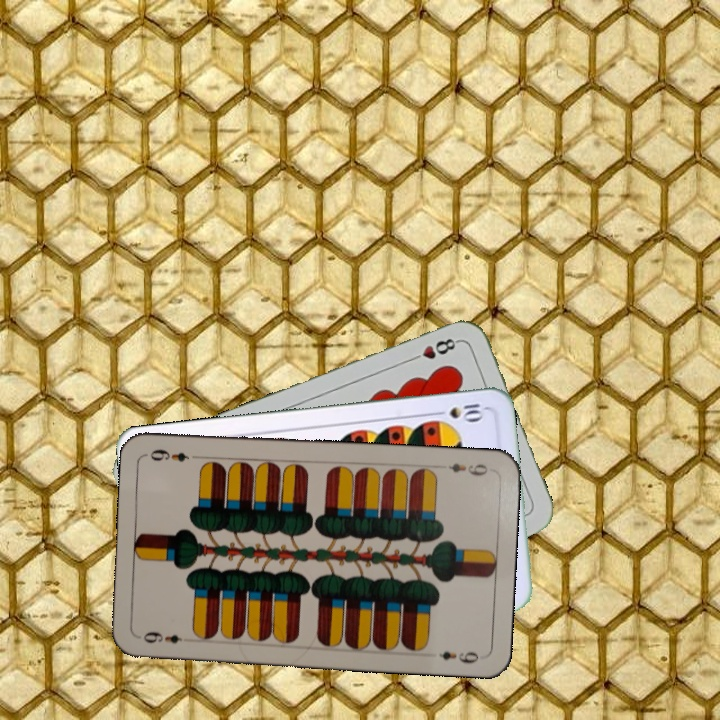E9: (444, 459, 490, 479), (139, 628, 185, 646)
H8: (405, 334, 462, 364)
S10: (429, 399, 486, 423)
